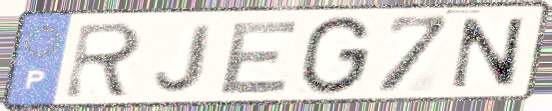7: (377, 12, 453, 94)
E: (215, 17, 304, 96)
G: (295, 13, 376, 97)
J: (152, 21, 218, 94)
N: (449, 16, 526, 91)
R: (61, 20, 147, 100)
